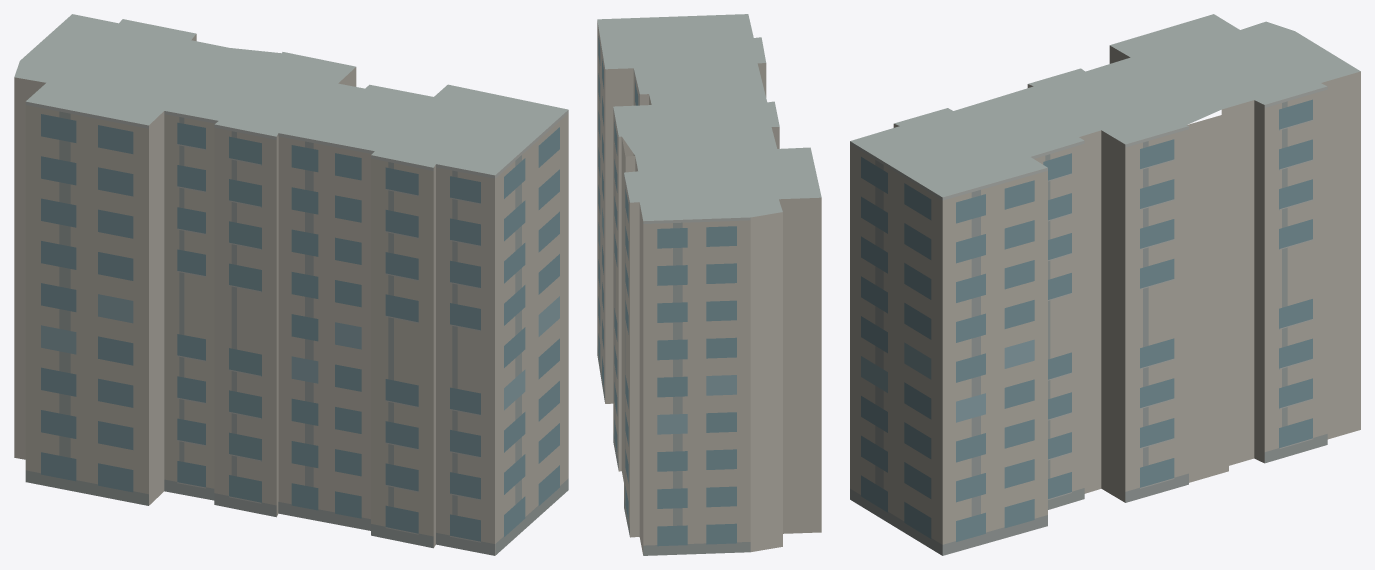
The model's file is survey-upis-32860278.glb.
3 views of the same model, side by side, from view 1: azimuth 30°, elevation 25°; view 2: azimuth 150°, elevation 25°; view 3: azimuth 270°, elevation 25° (orthographic). The views are drawn at different scales.
Visible parts, largest first — view 1: survey-upis-32860278.tmp; view 2: survey-upis-32860278.tmp; view 3: survey-upis-32860278.tmp.
Boxes of the visible parts, x1,y1,x2,y2 form: survey-upis-32860278.tmp: (14, 14, 568, 555); survey-upis-32860278.tmp: (597, 14, 821, 555); survey-upis-32860278.tmp: (850, 14, 1360, 555).
Bounding box in the file's own units: 30.42 × 27.7 × 35.79.
